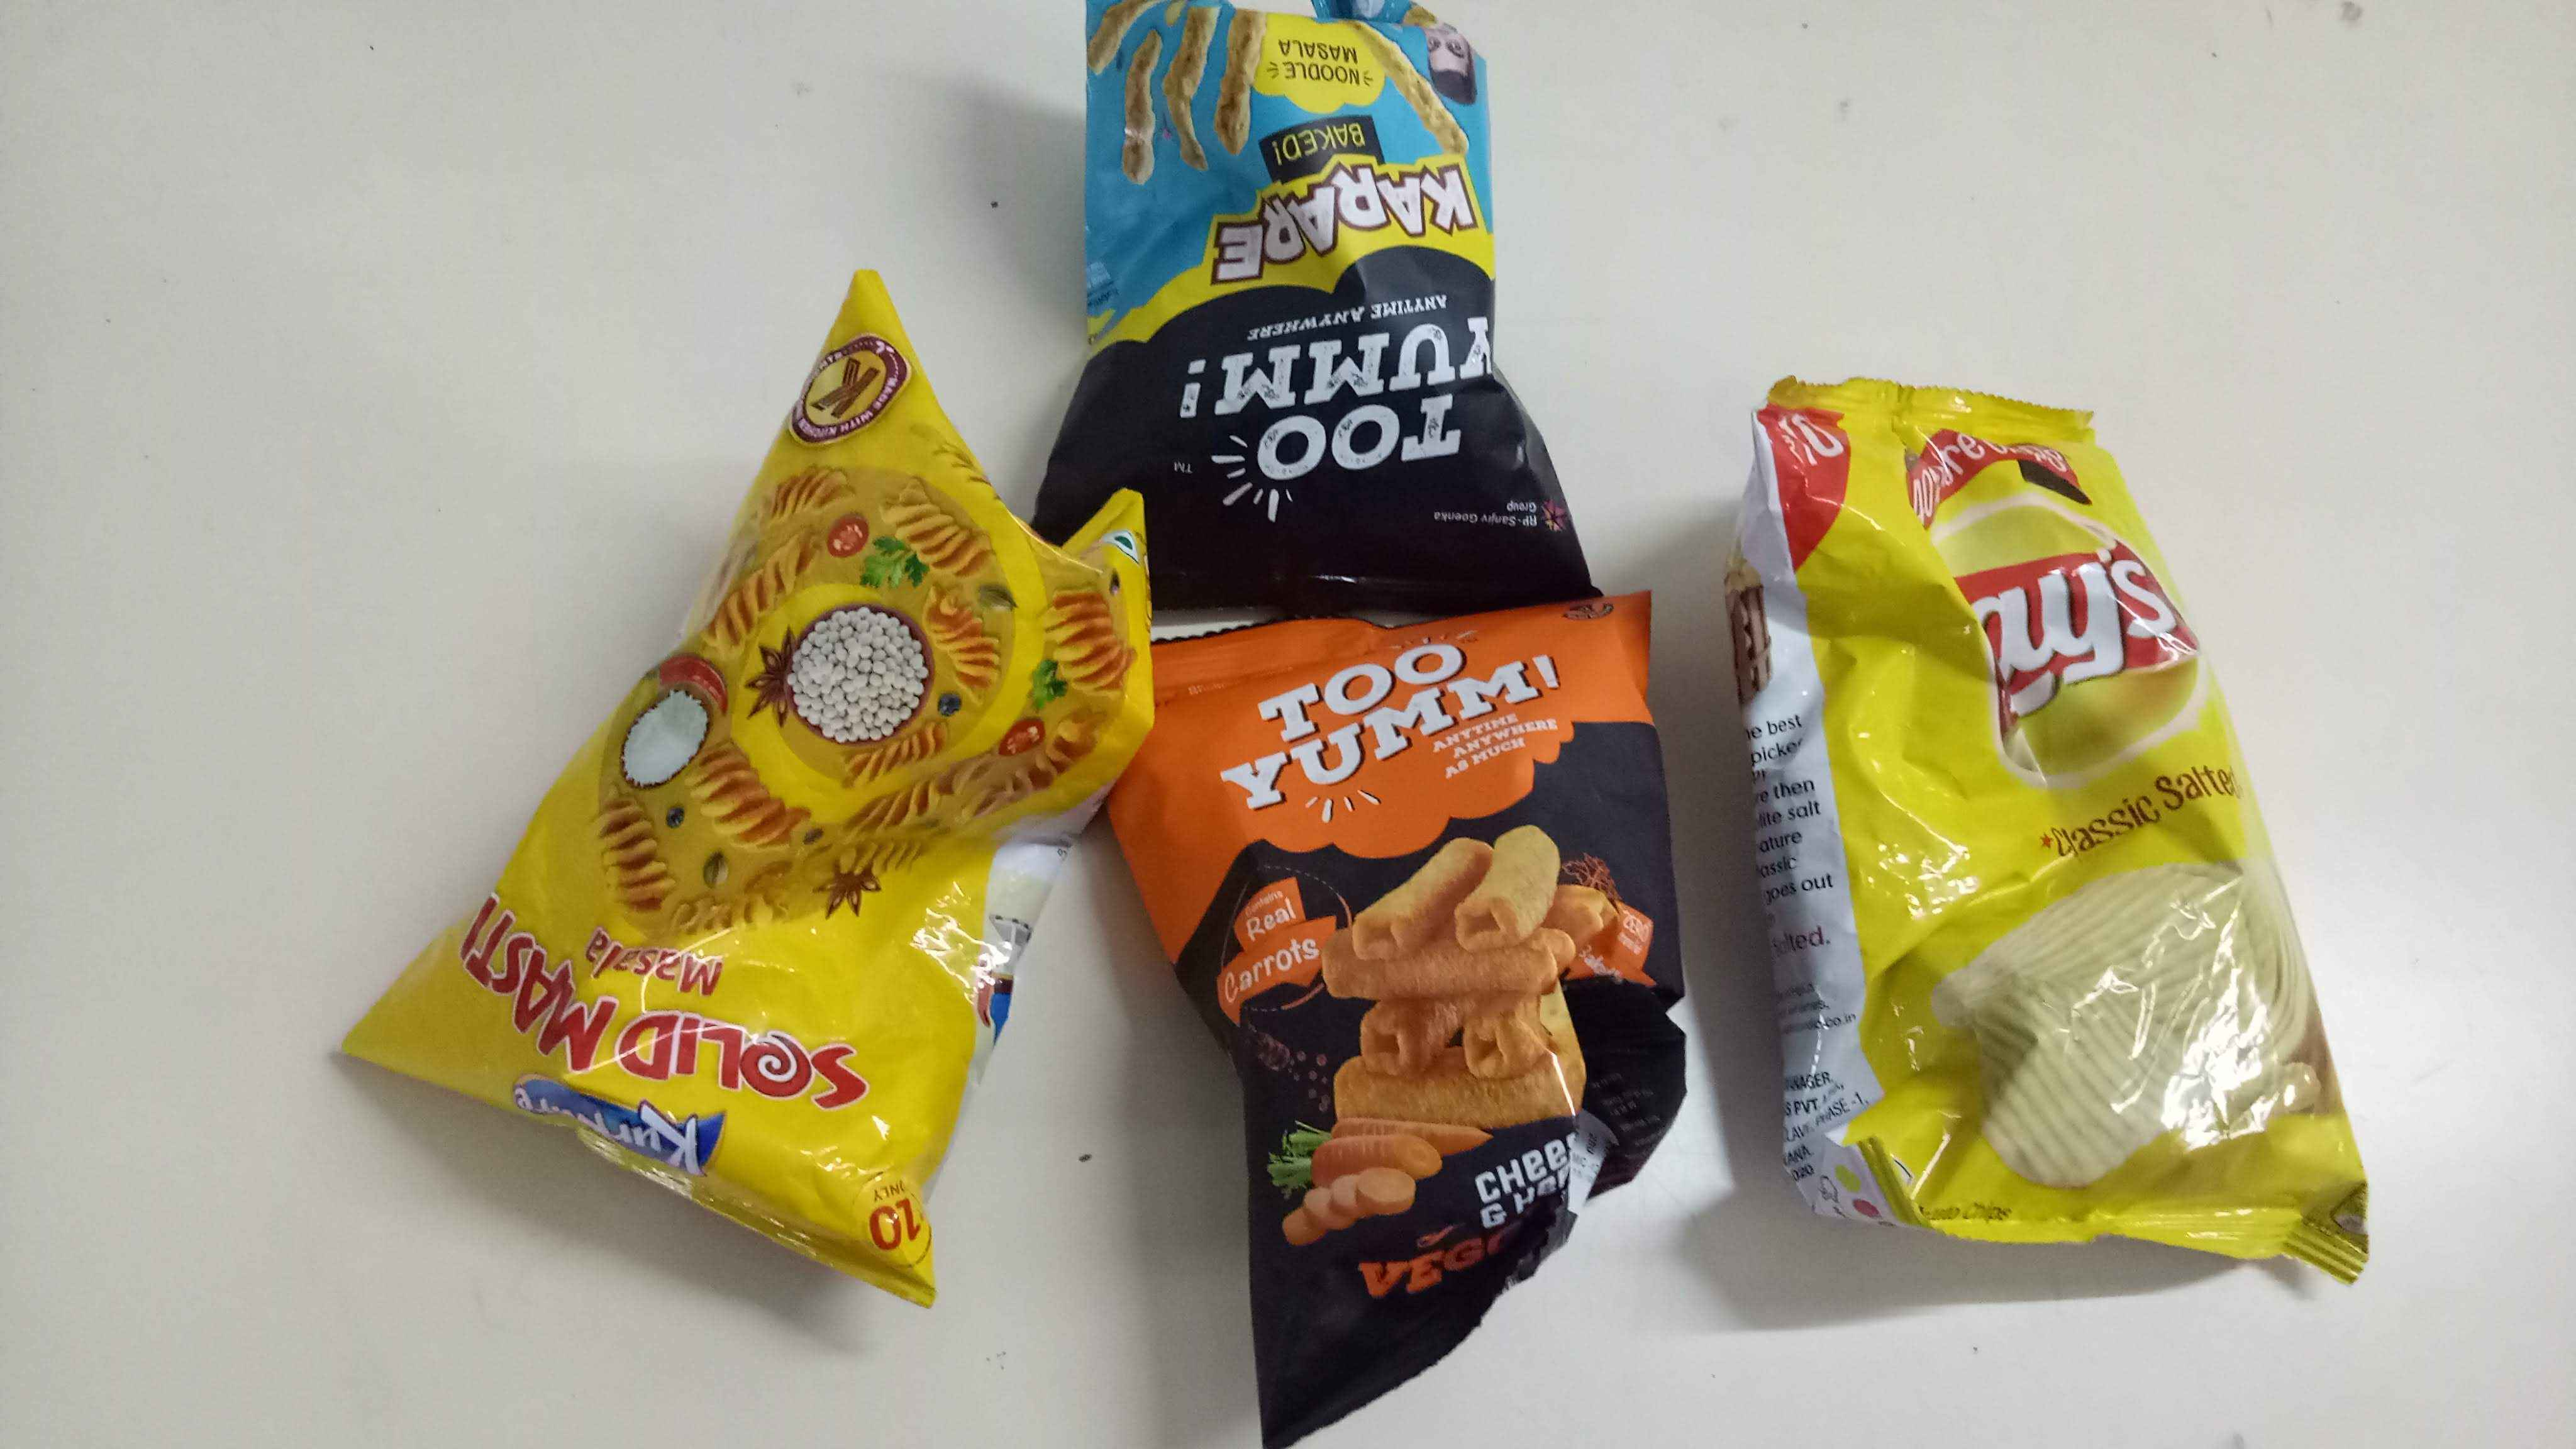Lays: (1914, 499, 2189, 801)
kurkure: (502, 1070, 738, 1201)
tooyumm: (1233, 633, 1543, 849), (1171, 313, 1509, 483)
